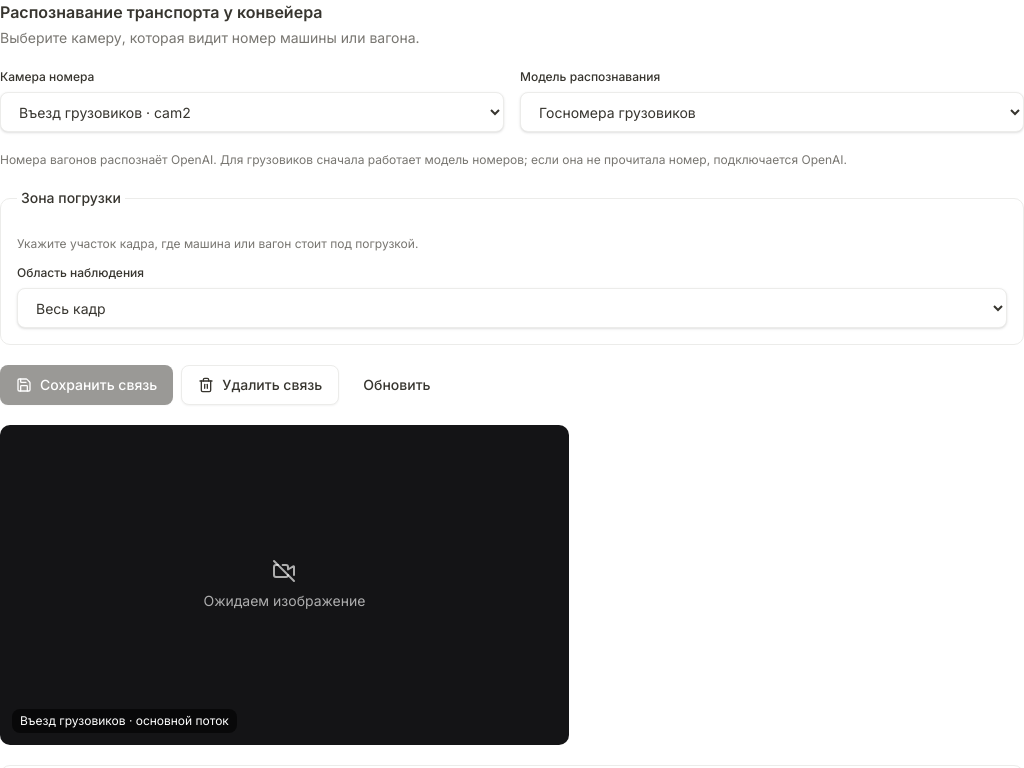
Test: ShippingTransportCamera › keeps a failed save visible and preserves the draft for retry
The image size is (1024, 768).
Step 1. Select "Номер вагона · cam3" in the dropdown labelled "Камера номера" → point(252, 112), box [0,92,504,132]
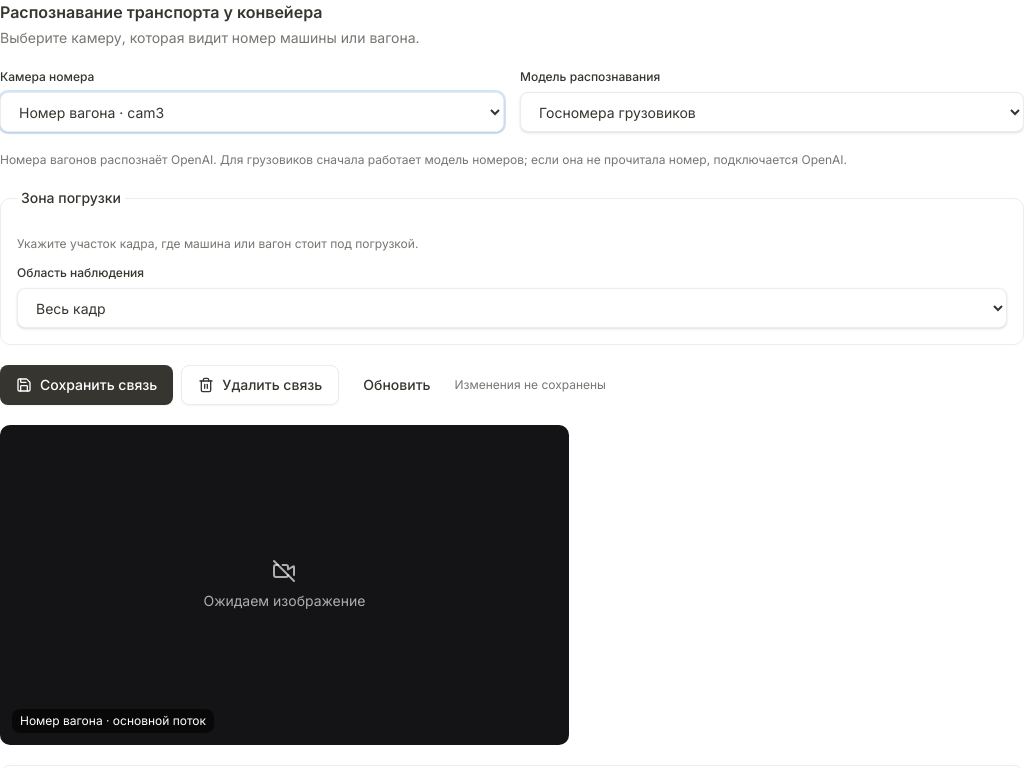
Step 2. Click the button "Сохранить связь" → point(87, 385), box [0,365,173,405]
(page scrolled)
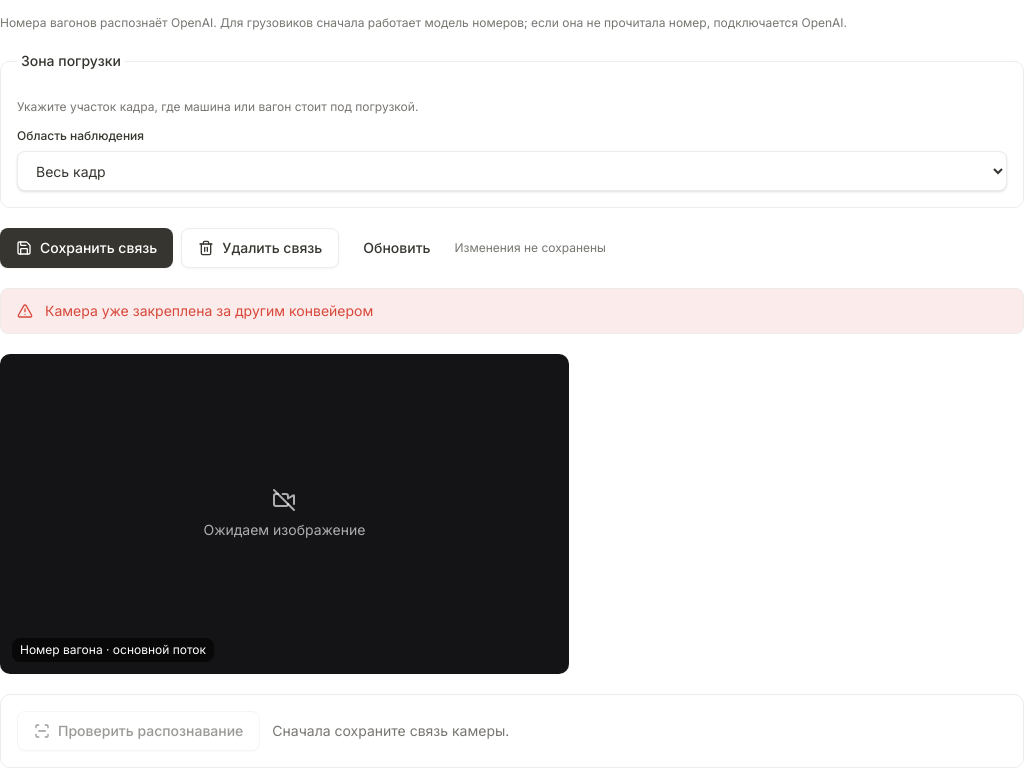
Check: the button "Сохранить связь" is enabled, box [0,228,173,268]
Check: the button "Проверить распознавание" is disabled, box [17,711,260,751]
Check: the message shows "Камера уже закреплена", box [45,302,373,319]
